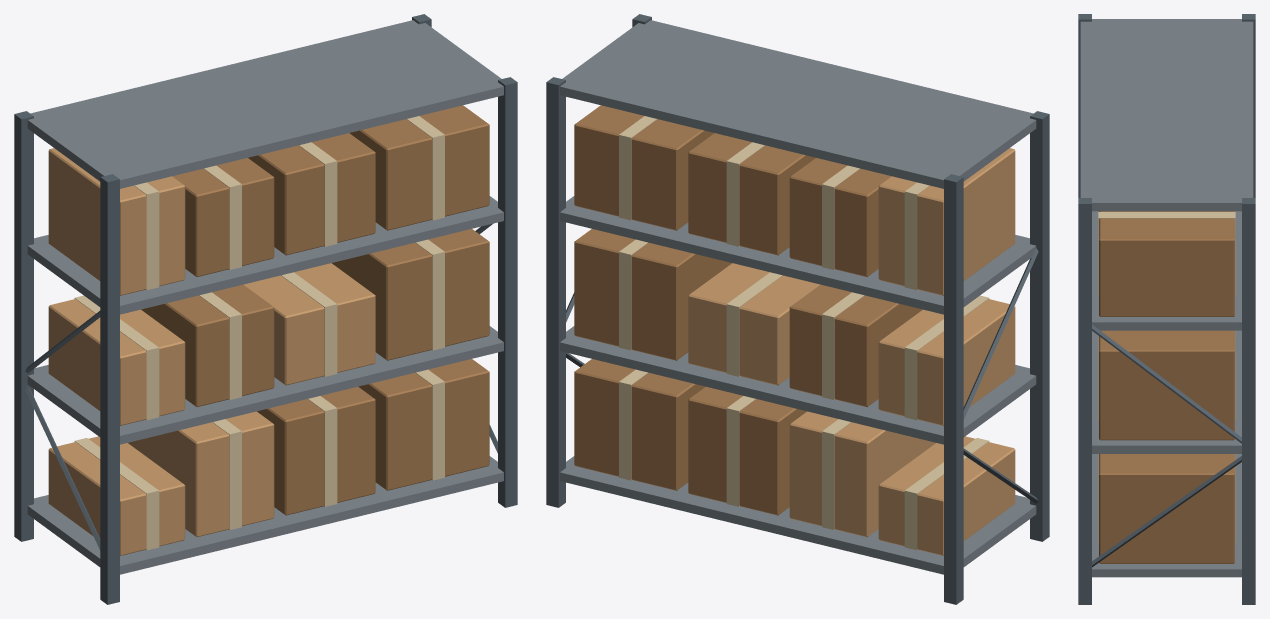
File: storage_shelf.glb
3 renders of one model, left to right at view 1: azimuth 30°, elevation 25°; view 2: azimuth 150°, elevation 25°; view 3: azimuth 270°, elevation 25°, orthographic. The views are drawn at different scales.
Visible parts, largest first — view 1: storage_shelf; view 2: storage_shelf; view 3: storage_shelf.
Part boxes in pixels (x1,y1,x2,y2): storage_shelf: [14, 14, 517, 604]; storage_shelf: [546, 14, 1049, 604]; storage_shelf: [1078, 14, 1255, 604].
Size of the model in its own units: 1.98 by 1.95 by 0.78.
